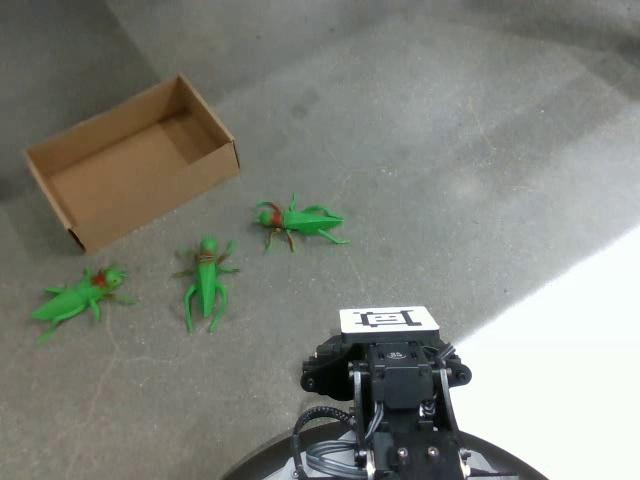box: (23, 71, 240, 255)
grasshopper: (30, 261, 136, 344), (170, 234, 240, 334), (252, 191, 350, 253)
